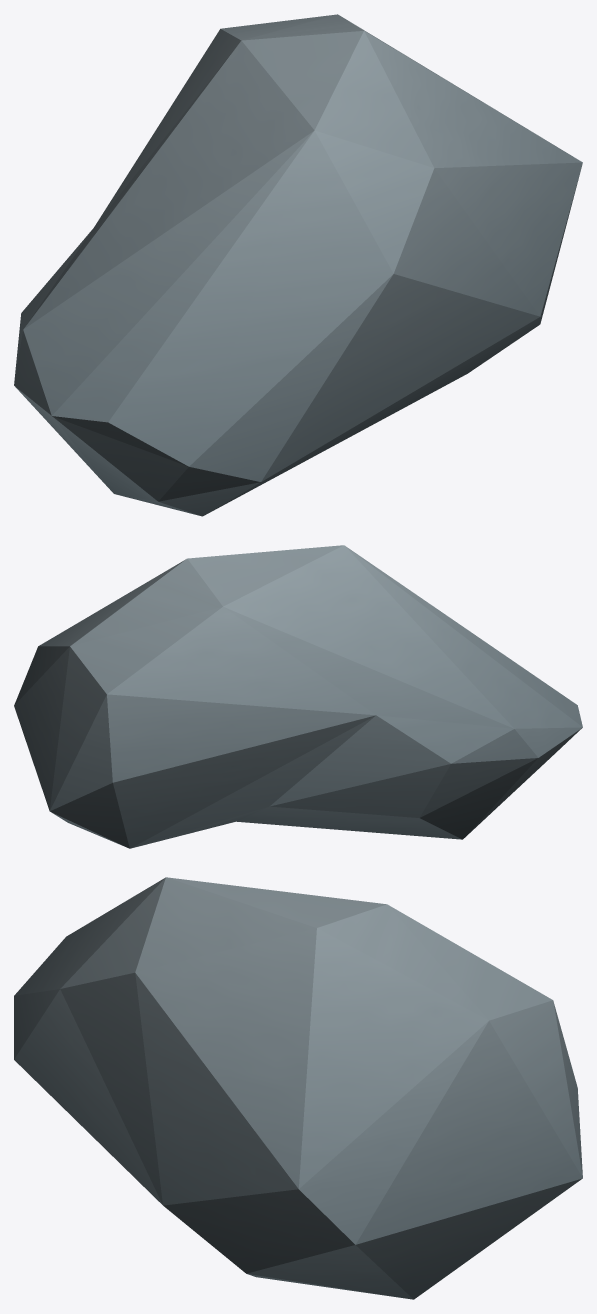
Rendered from rock3.glb.
The picture shows the model from 3 angles, top to bottom: view 1: azimuth 30°, elevation 25°; view 2: azimuth 150°, elevation 25°; view 3: azimuth 270°, elevation 25°; orthographic projection. The views are drawn at different scales.
Parts seen in each view (by area): view 1: rock3; view 2: rock3; view 3: rock3.
Part boxes in pixels (left/top/right/bottom): rock3: left=14, top=14, right=582, bottom=516; rock3: left=14, top=545, right=582, bottom=848; rock3: left=14, top=877, right=582, bottom=1299.
Bounding box in the file's own units: 3.97 × 2.06 × 3.29.
Materials: 1 (1 with a texture image).
